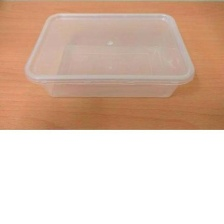plastic_box: (18, 5, 202, 104)
